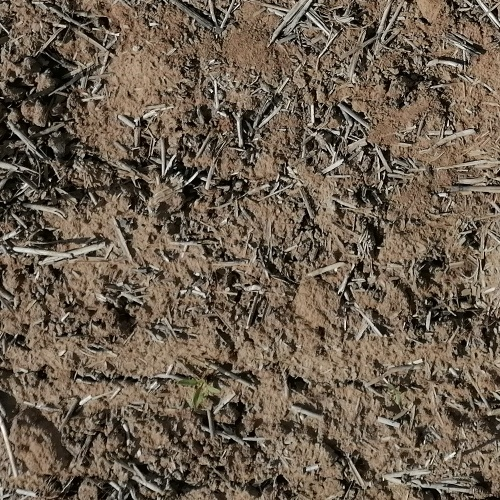beet: (174, 375, 220, 411)
